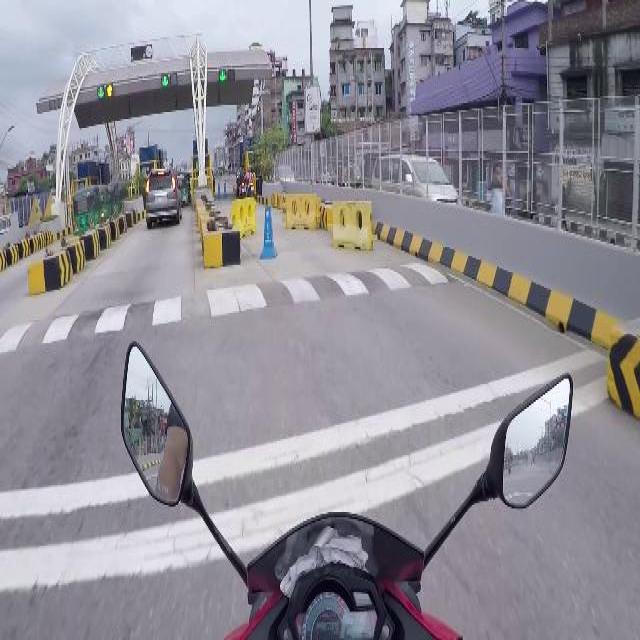car: (143, 169, 180, 226)
motorcycle: (115, 331, 573, 638), (71, 183, 100, 233), (98, 181, 112, 215), (175, 171, 188, 206), (109, 182, 122, 212), (345, 165, 362, 187), (243, 167, 254, 194), (235, 165, 244, 192)
truck: (370, 153, 459, 203), (272, 164, 295, 182)
